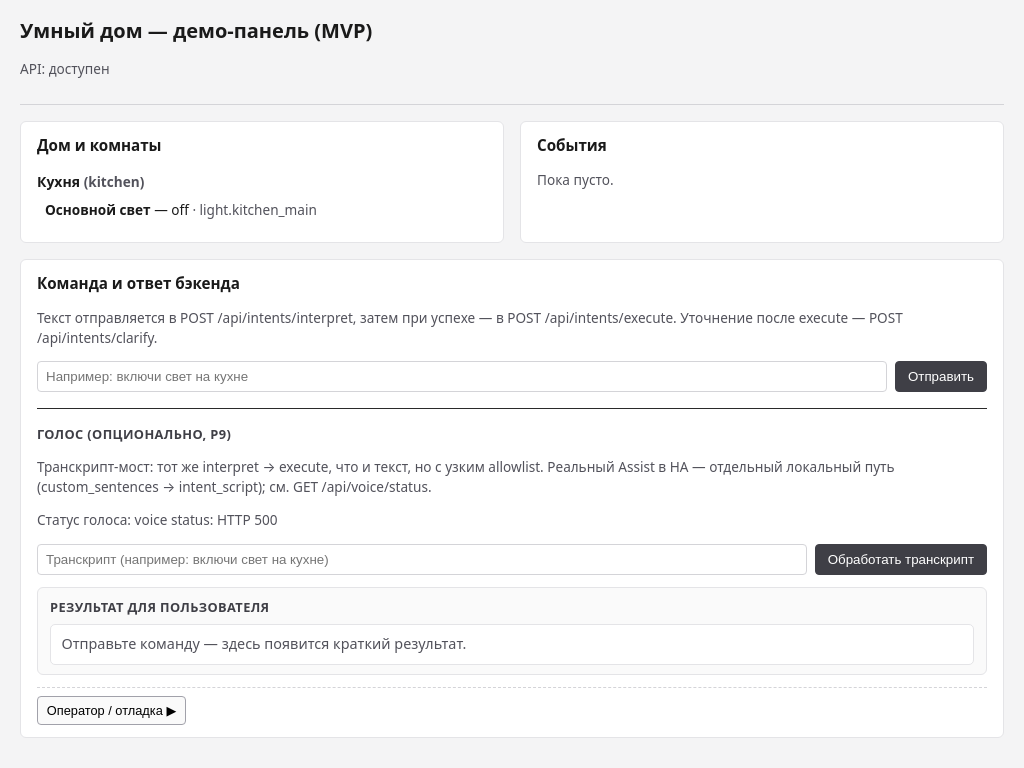
Test: App P6a › renders interpret clarification options for missing_room
Check: the element with test id "house-state" is shown, box [37,172,317,219]
Type "выключи свет" into the field with test id "command-input" at (462, 377), box [37,361,887,392]
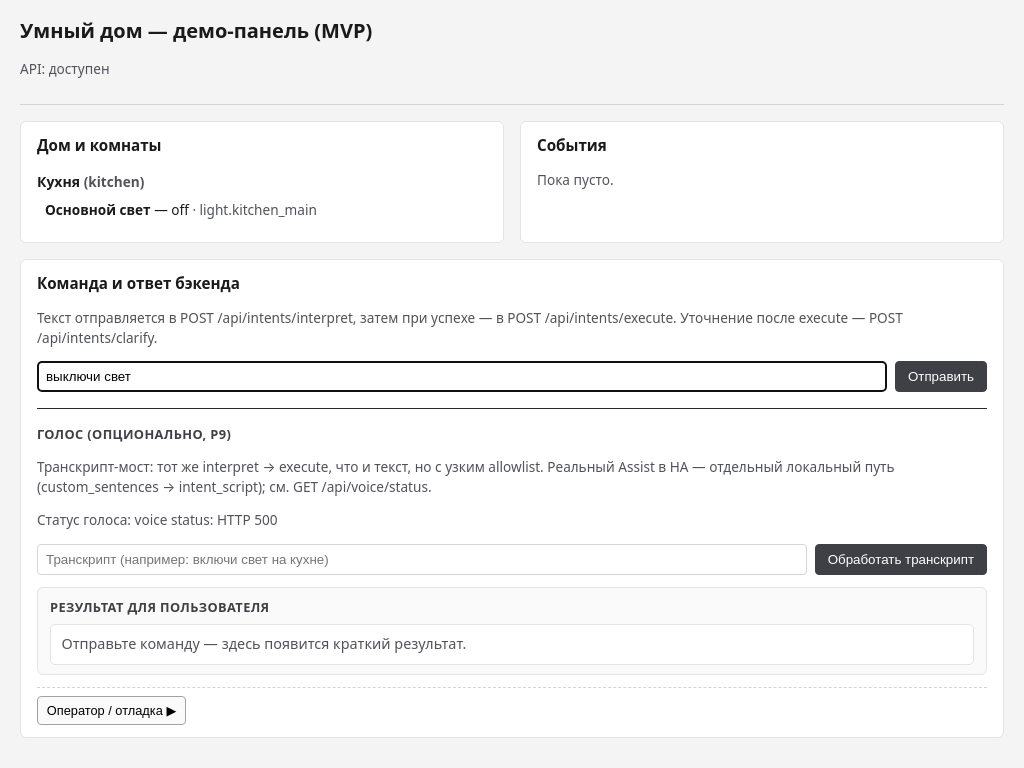
Click the button with test id "command-submit" at (941, 377), box [895,361,987,392]
(page scrolled)
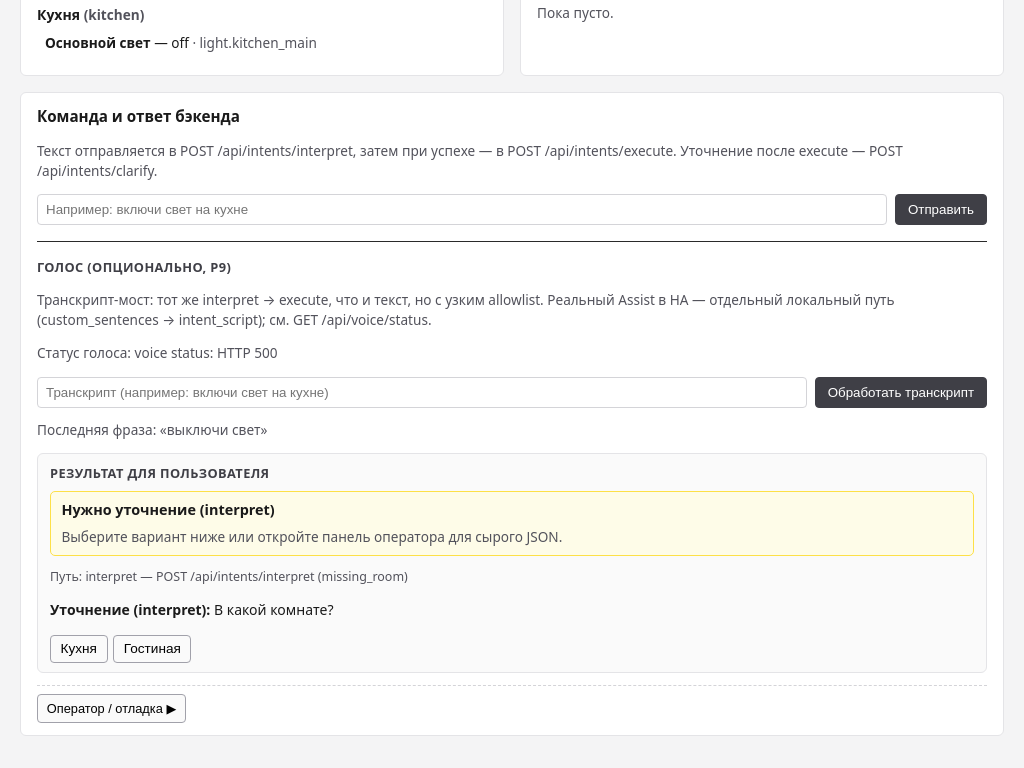
Check: the element with test id "interpret-clarification" is shown, box [50,568,408,663]
Check: the button with test id "interpret-option-kitchen" is shown, box [50,635,108,663]
